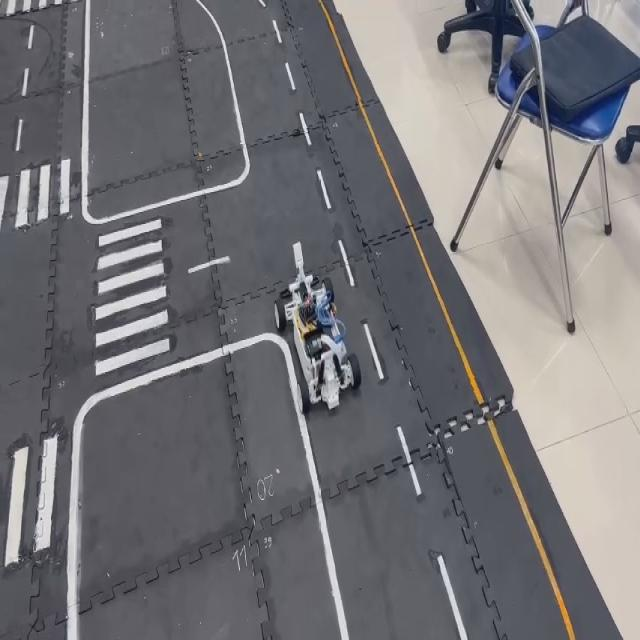SiCo-CAR: (273, 239, 361, 412)
